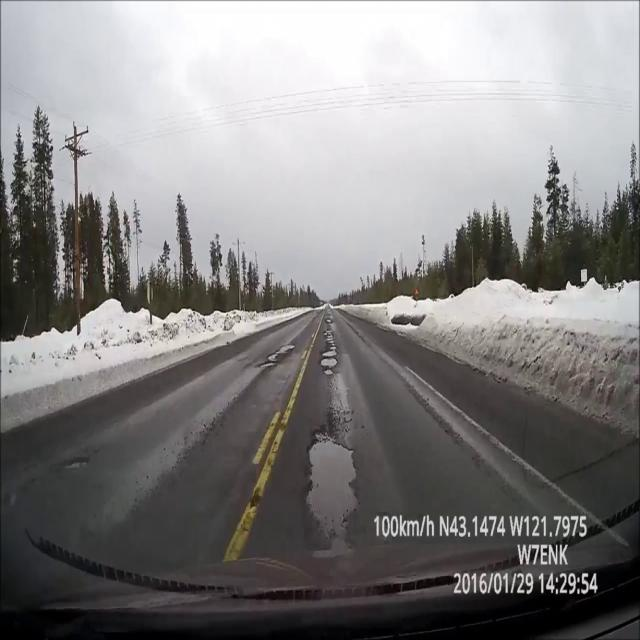Pothole: (307, 438, 357, 519), (64, 458, 88, 469), (275, 344, 295, 354), (320, 358, 337, 367), (324, 330, 333, 342), (260, 361, 277, 367), (322, 350, 337, 356), (268, 353, 278, 361), (330, 343, 337, 349), (327, 319, 331, 322)
